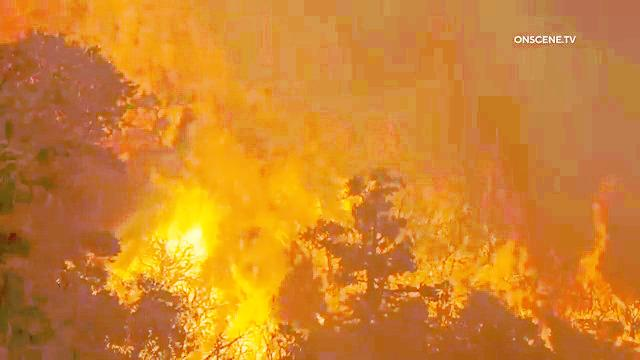fire: (119, 162, 286, 359), (421, 193, 623, 354)
